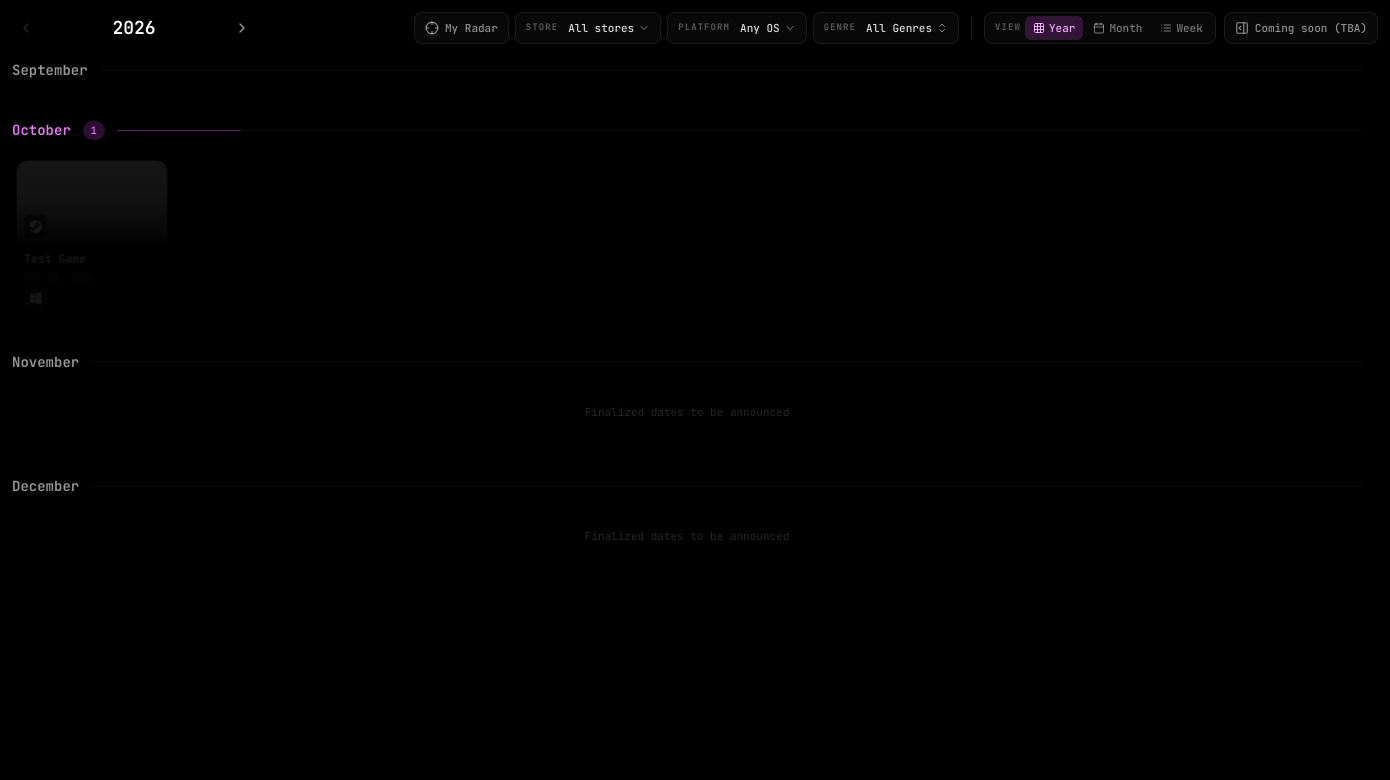
Scenario: ReleaseCalendar › labels every filter (Store, Platform, View) so the toolbar is self-explanatory
Expected: the text "Store" is shown, [526,21,558,35]
Expected: the text "Platform" is shown, [678,21,730,35]
What coordinates should you click on to do the following:
click the button "My Radar"
I would click on:
 (461, 28)
Its box is [414,12,509,44].
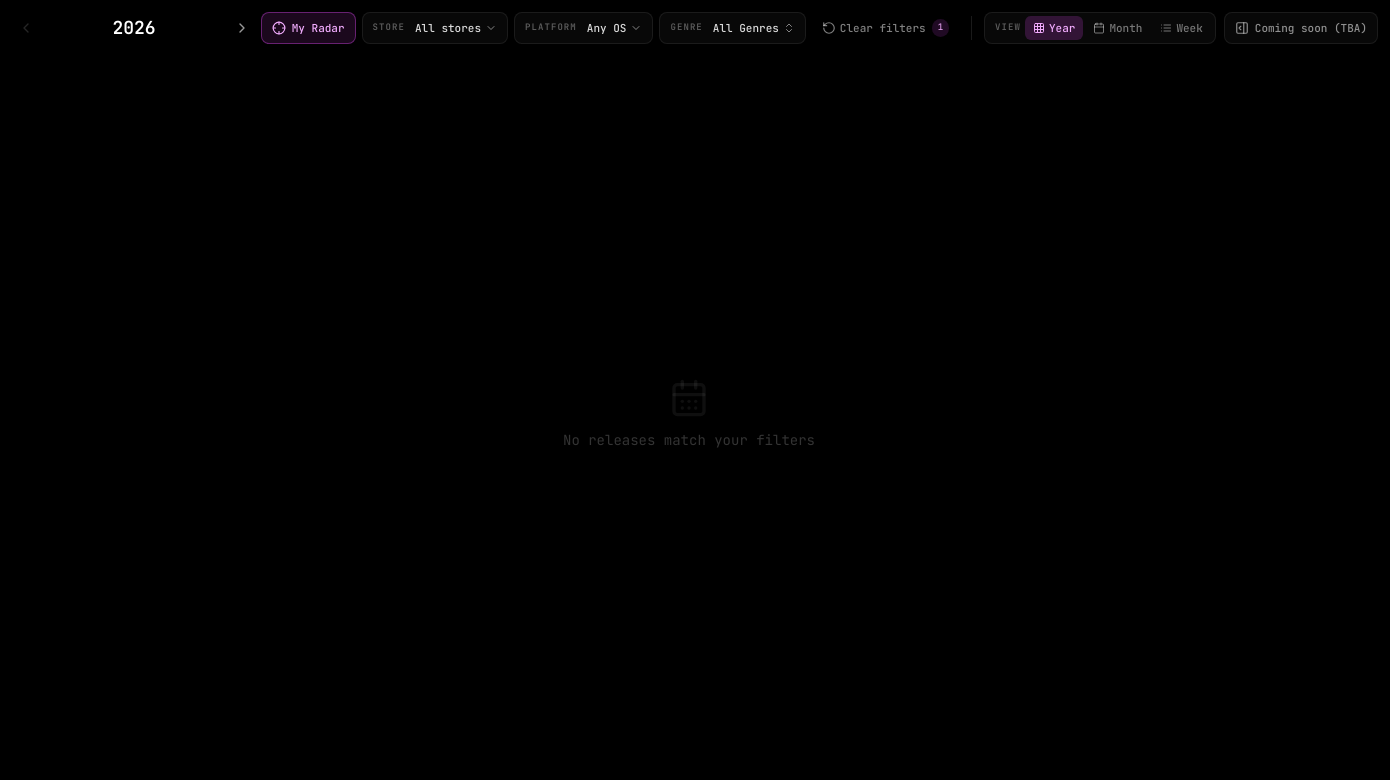
Now the button "Clear filters 1" is shown, box [812,12,959,44]
